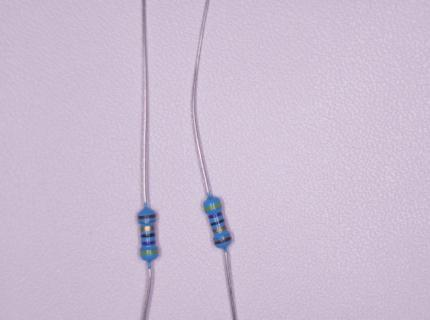Black band: (210, 219, 224, 226), (141, 233, 155, 238)
Brown band: (214, 236, 232, 245), (138, 214, 156, 219)
Gold band: (213, 225, 227, 233), (140, 226, 155, 231)
Violet band: (209, 212, 223, 219), (142, 241, 156, 245)
Yellow band: (204, 203, 221, 211), (140, 250, 158, 255)
